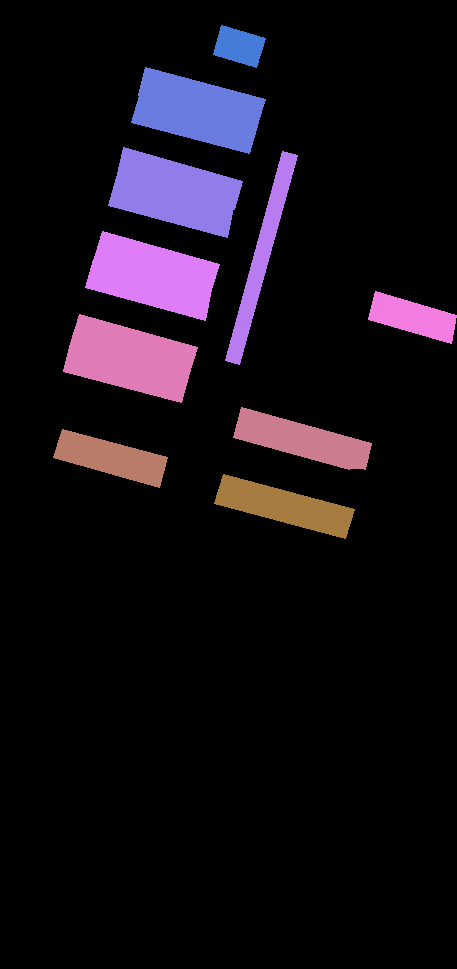parkingspot: (225, 151, 297, 364), (214, 474, 354, 538), (233, 407, 371, 469), (70, 314, 197, 376), (116, 147, 242, 209), (93, 231, 219, 292), (85, 259, 211, 320), (63, 342, 189, 402), (108, 177, 233, 237), (131, 95, 258, 153), (138, 67, 265, 124), (53, 429, 167, 487), (368, 291, 456, 343), (213, 25, 265, 67)
